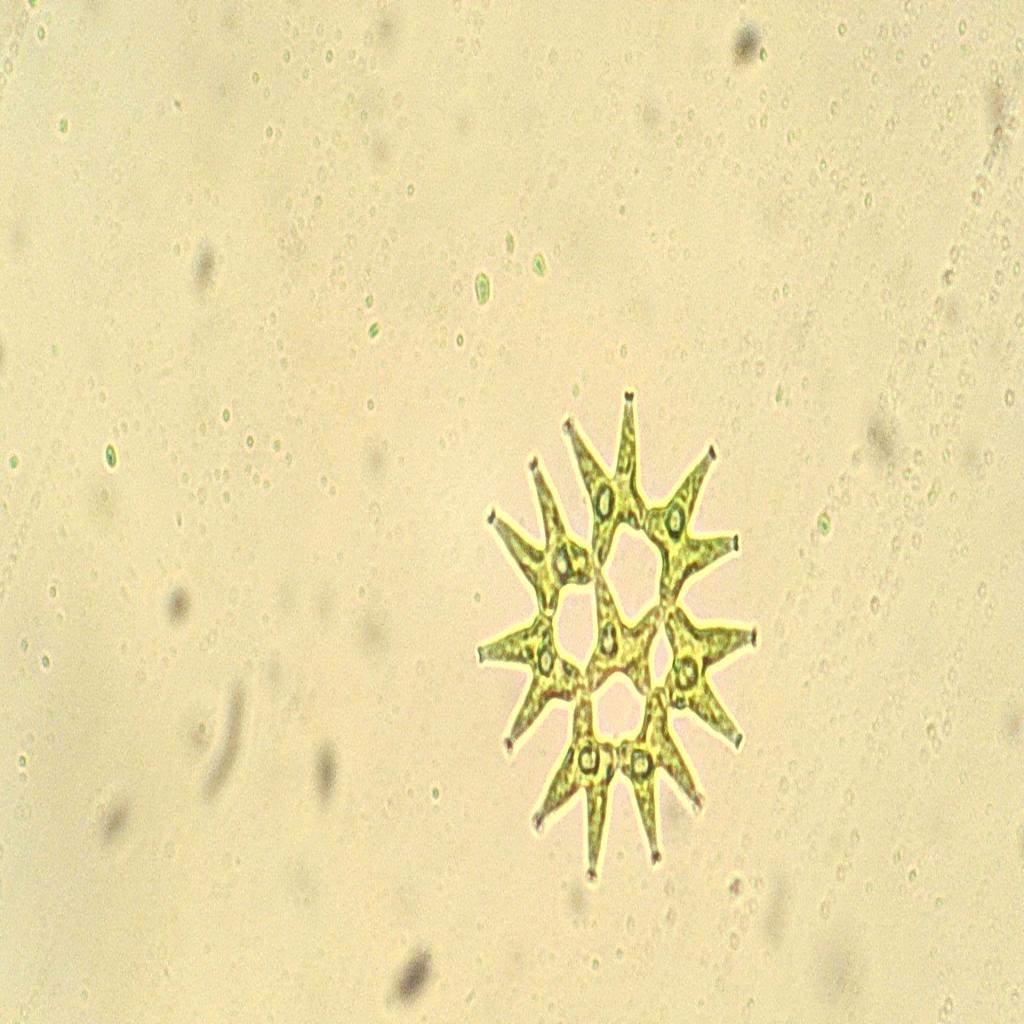Pediastrum_CTH: (465, 377, 781, 897)
